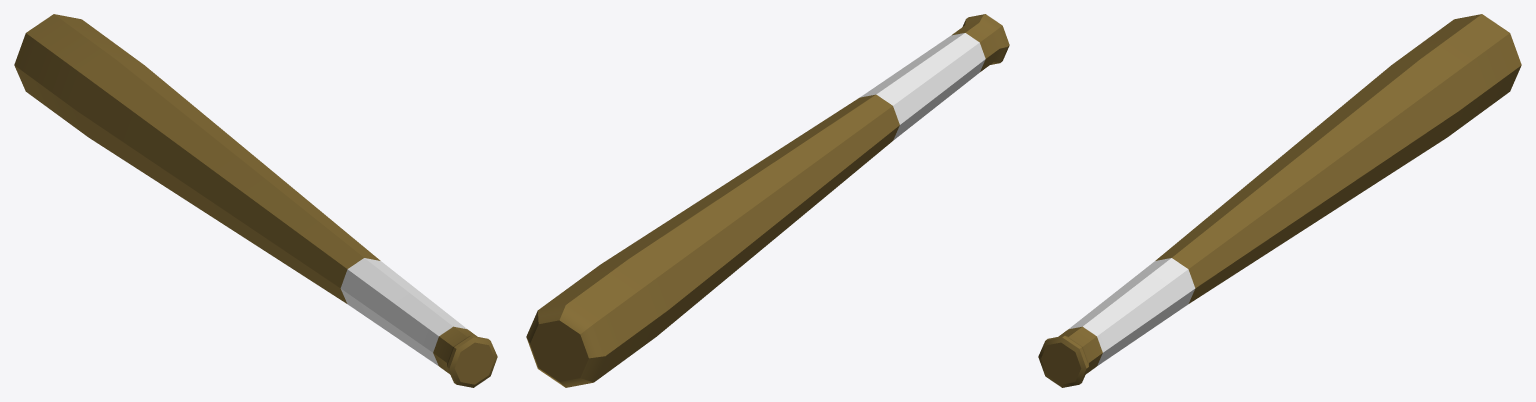
File: Bat.fbx
The picture shows the model from 3 angles, left to right: view 1: azimuth 30°, elevation 25°; view 2: azimuth 150°, elevation 25°; view 3: azimuth 330°, elevation 25°; orthographic projection.
Visible parts, largest first — view 1: GAM7003_BAT; view 2: GAM7003_BAT; view 3: GAM7003_BAT.
Part boxes in pixels (bbox=[...]): GAM7003_BAT: bbox=[14, 14, 497, 387]; GAM7003_BAT: bbox=[526, 14, 1009, 387]; GAM7003_BAT: bbox=[1038, 14, 1521, 387].
Bounding box in the file's own units: 10.7 × 10.7 × 100.
